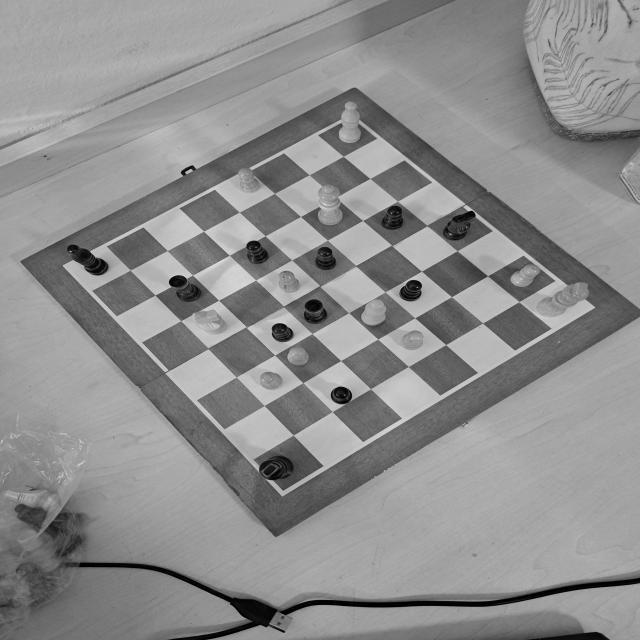chess-table-corners: (331, 111, 372, 132), (572, 297, 604, 318), (270, 482, 297, 500), (56, 260, 81, 274)
